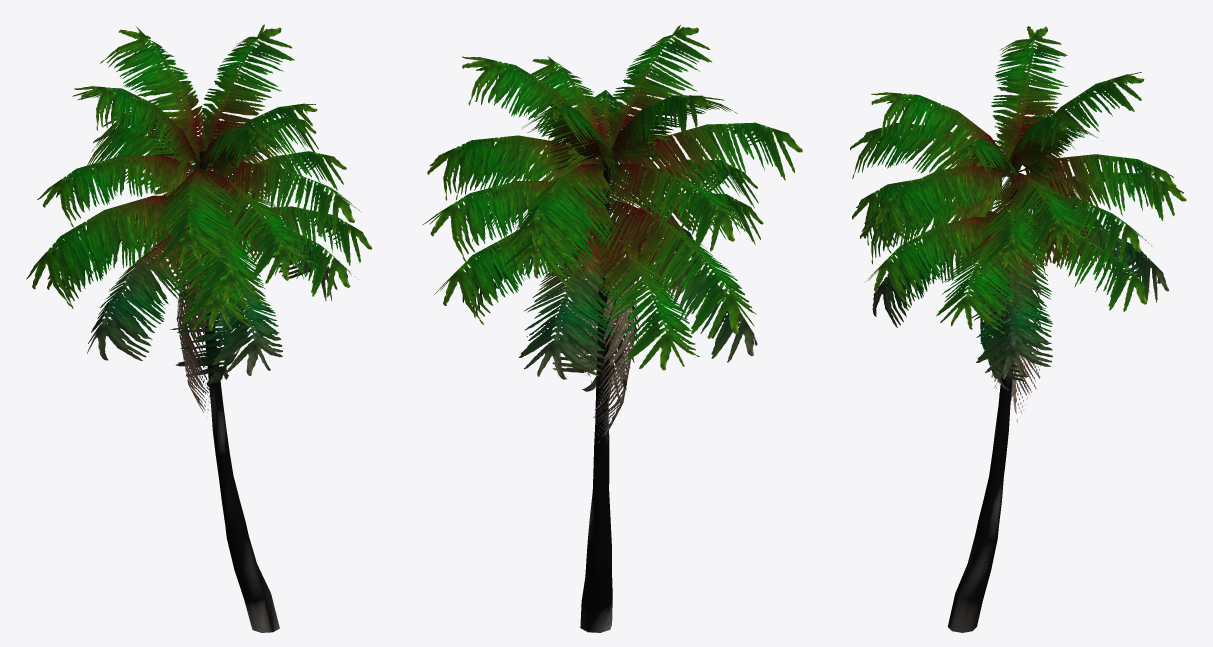
File: palm.glb
3 views of the same model, side by side, from view 1: azimuth 30°, elevation 25°; view 2: azimuth 150°, elevation 25°; view 3: azimuth 270°, elevation 25° (orthographic). The views are drawn at different scales.
Visible parts, largest first — view 1: palm; view 2: palm; view 3: palm.
Boxes of the visible parts, x1,y1,x2,y2 form: palm: [26, 24, 372, 632]; palm: [422, 25, 802, 632]; palm: [850, 26, 1186, 632].
Bounding box in the file's own units: 6.04 × 10.15 × 6.12.
4 materials, 4 textured.
